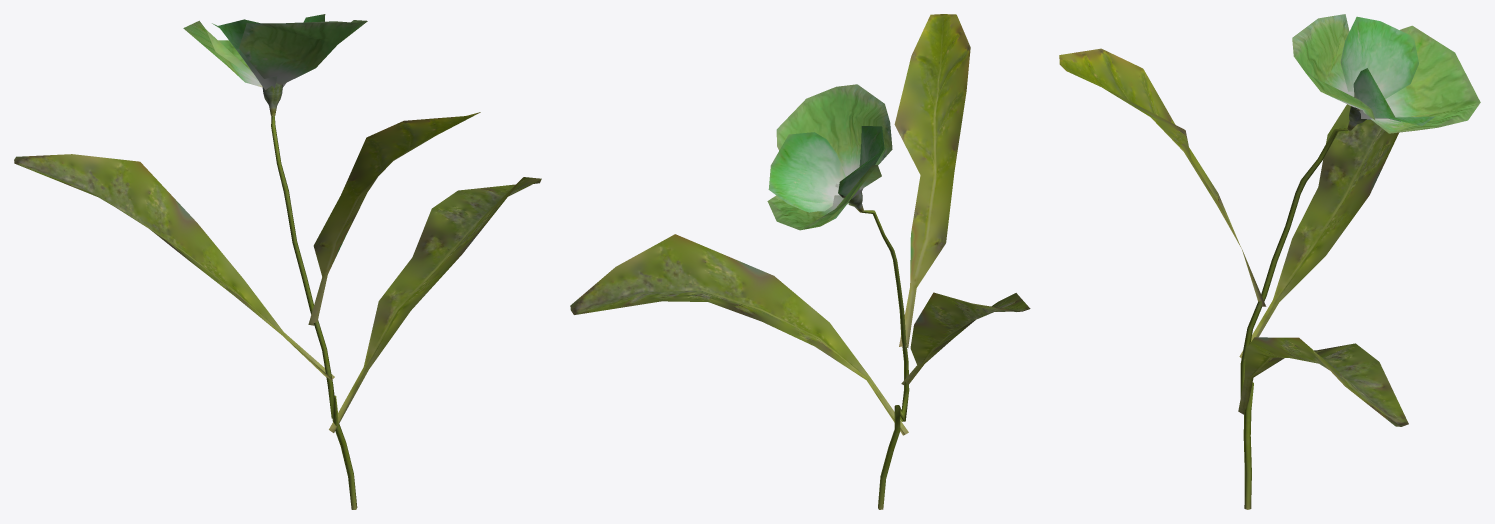
File: Poppy_baby_short_greenyellow.glb
3 views of the same model, side by side, from view 1: azimuth 30°, elevation 25°; view 2: azimuth 150°, elevation 25°; view 3: azimuth 270°, elevation 25° (orthographic). The views are drawn at different scales.
Visible parts, largest first — view 1: baby poppy; view 2: baby poppy; view 3: baby poppy.
Part boxes in pixels (x1,y1,x2,y2): baby poppy: [14, 14, 541, 509]; baby poppy: [570, 14, 1030, 509]; baby poppy: [1059, 14, 1480, 509].
Bounding box in the file's own units: 1.32 × 1.17 × 0.9442.
1 material, 1 textured.
